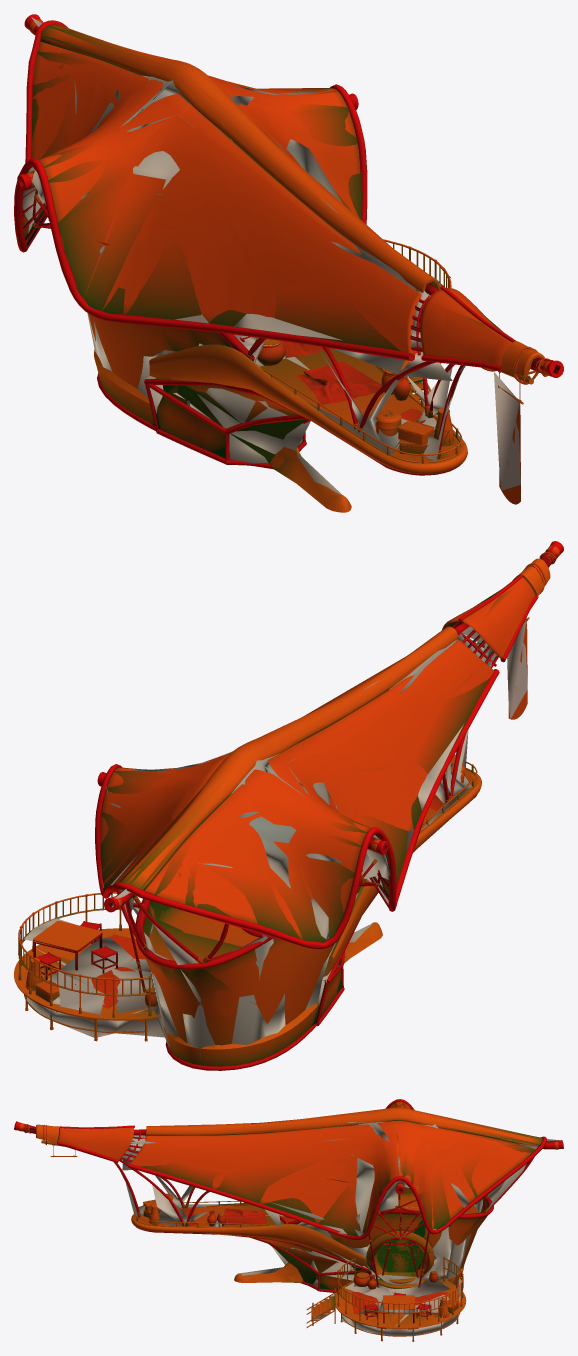
The model's file is KB3D_GAE_BldgSM_G.glb.
3 views of the same model, one above another, from view 1: azimuth 30°, elevation 25°; view 2: azimuth 150°, elevation 25°; view 3: azimuth 270°, elevation 25° (orthographic). The views are drawn at different scales.
Visible parts, largest first — view 1: L0, L1, L2; view 2: L0, L1, L2; view 3: L0, L1, L2.
Boxes of the visible parts, x1,y1,x2,y2 form: L0: (14, 14, 563, 512); L1: (17, 19, 563, 507); L2: (22, 17, 520, 494); L0: (14, 541, 563, 1070); L1: (15, 543, 562, 1067); L2: (24, 621, 527, 1061); L0: (14, 1099, 563, 1341); L1: (14, 1102, 563, 1337); L2: (45, 1120, 558, 1335).
Size of the model in its own units: 11.77 by 9.1 by 25.66.
